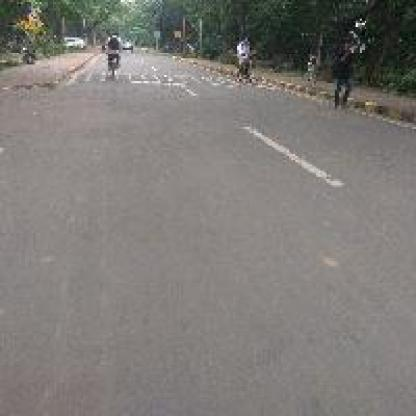Speed Bump: (127, 69, 218, 83)
